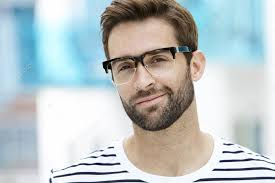Glasses: (93, 45, 187, 87)
